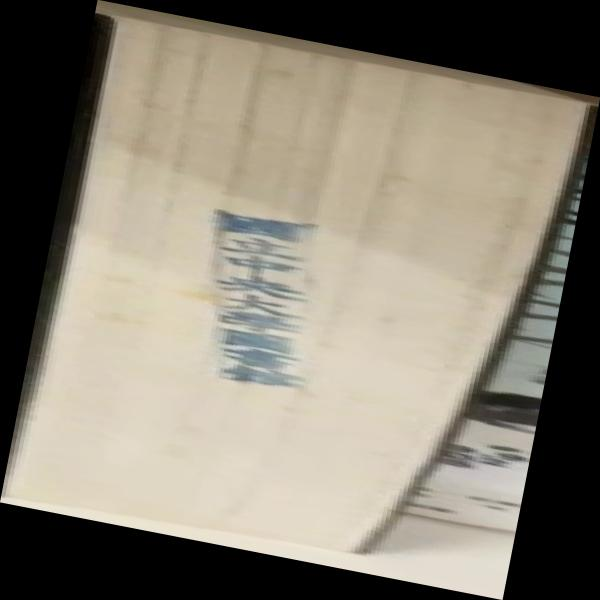backward: (1, 1, 600, 600)
